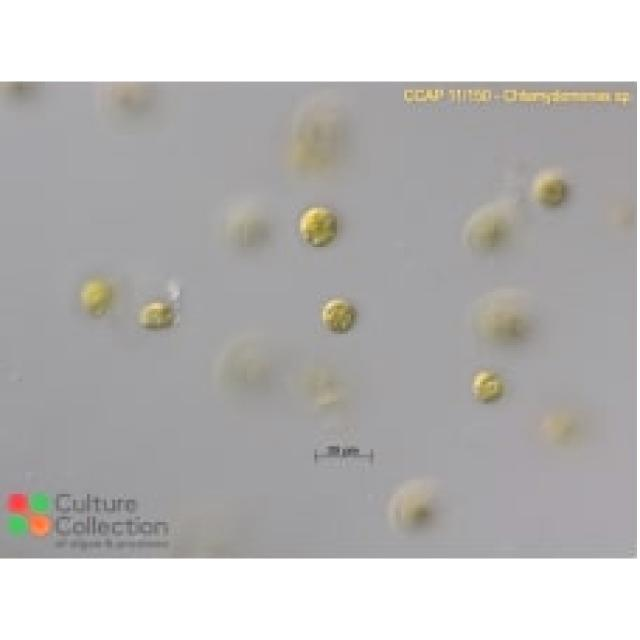Green Algae: (298, 202, 340, 250), (463, 365, 508, 404), (138, 295, 180, 334), (530, 171, 572, 208), (320, 295, 359, 334), (469, 213, 508, 250), (76, 281, 115, 317)
